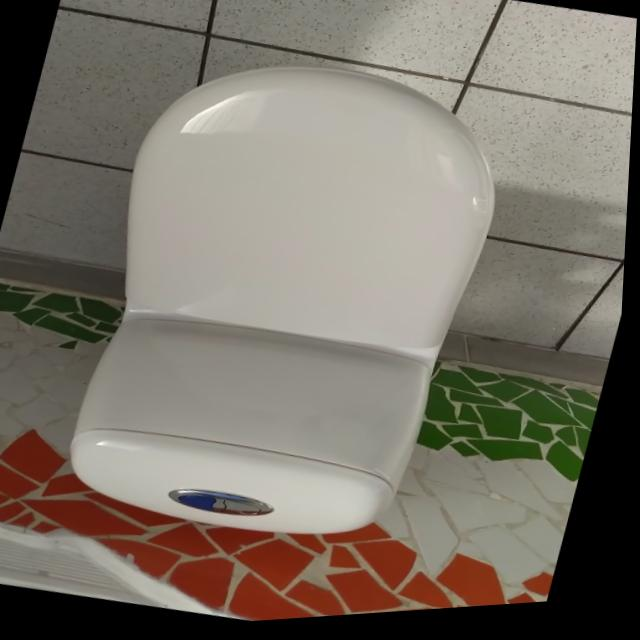toilet: (48, 26, 530, 579)
